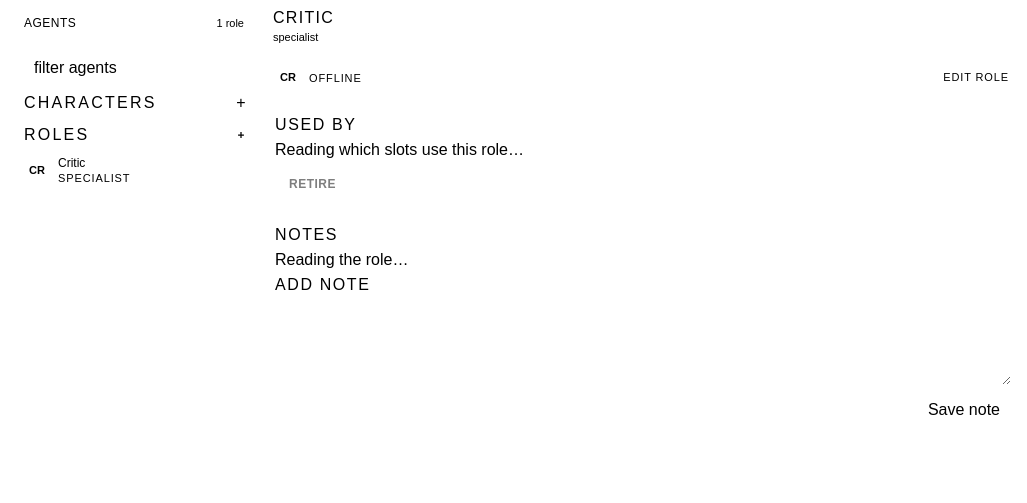
AgentsView › shows a role as role text, with no model or effort of its own
Click the button with aria-label "Inspect Critic" at (138, 170), box [12,149,263,191]
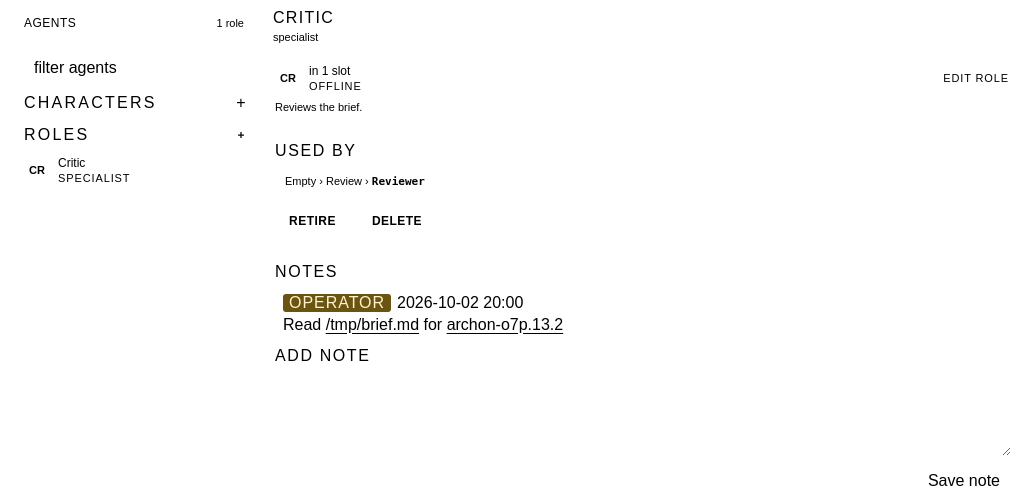
Expected: the text "Reviews the brief." is shown, [275,101,362,113]
Expected: the button "/tmp/brief.md" is shown, [326,316,419,334]
Expected: the button "archon-o7p.13.2" is shown, [447,316,563,334]
